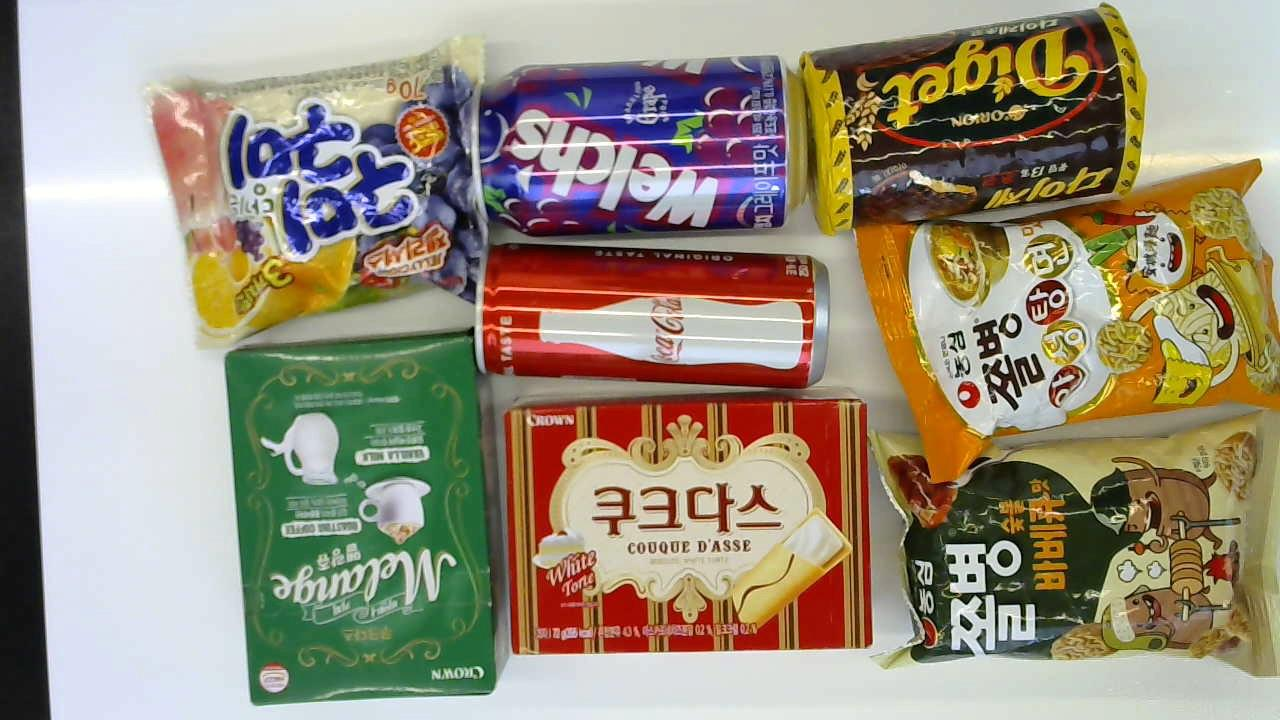coke: (467, 235, 833, 377)
couque_coffee: (230, 317, 495, 717)
couque_white: (499, 384, 869, 665)
diget_choco: (791, 2, 1153, 244)
gumi_gumi: (143, 31, 502, 347)
jjolbyung_noodle: (852, 142, 1280, 492)
jjolbyung_ori: (860, 410, 1280, 669)
welchs: (464, 51, 819, 235)
